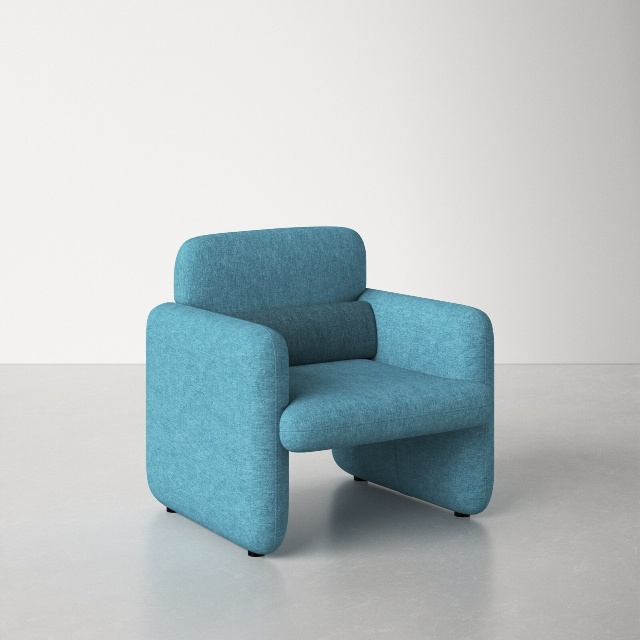obstacle: (147, 227, 493, 554)
